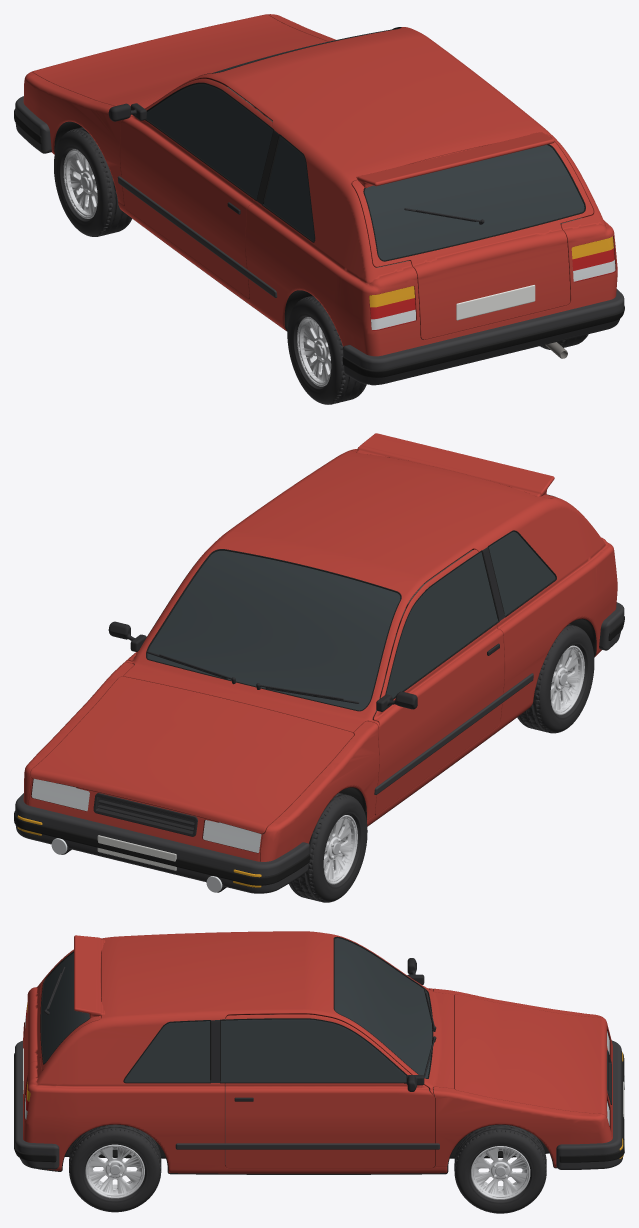
File: volant.glb
3 renders of one model, top to bottom at view 1: azimuth 30°, elevation 25°; view 2: azimuth 150°, elevation 25°; view 3: azimuth 270°, elevation 25°, orthographic. The views are drawn at different scales.
Visible parts, largest first — view 1: Body, Trunk, Glass_Rear, Door_FL, Hood, Glass_FL, Bumper_R, Fender_FL, Wheel_FL_Tyre, Glass_QL, Wheel_RL_Tyre, Bumper_R_Strip (+8 smaller); view 2: Body, Hood, Glass_Front, Door_FL, Glass_FL, Bumper_F, Fender_FL, Trunk, Wheel_FL_Tyre, Wheel_RL_Tyre, Glass_QL, Bumper_F_Strip (+9 smaller); view 3: Body, Door_FR, Hood, Glass_FR, Glass_Front, Fender_FR, Glass_QR, Wheel_FR_Tyre, Wheel_RR_Tyre, Trunk, Glass_Rear, Bumper_F (+7 smaller).
Part boxes in pixels (bbox=[...]): Body: bbox=[52, 27, 617, 385]; Trunk: bbox=[352, 132, 593, 339]; Glass_Rear: bbox=[363, 144, 585, 261]; Door_FL: bbox=[120, 78, 272, 298]; Hood: bbox=[31, 14, 327, 106]; Glass_FL: bbox=[145, 82, 273, 200]; Bumper_R: bbox=[342, 289, 624, 384]; Fender_FL: bbox=[23, 72, 131, 205]; Wheel_FL_Tyre: bbox=[54, 127, 131, 236]; Glass_QL: bbox=[262, 134, 315, 242]; Wheel_RL_Tyre: bbox=[287, 295, 366, 404]; Bumper_R_Strip: bbox=[342, 305, 624, 377]; Body: bbox=[28, 449, 617, 861]; Hood: bbox=[30, 676, 354, 833]; Glass_Front: bbox=[146, 549, 401, 711]; Door_FL: bbox=[373, 549, 504, 814]; Glass_FL: bbox=[385, 550, 499, 700]; Bumper_F: bbox=[15, 781, 309, 893]; Fender_FL: bbox=[260, 721, 379, 861]; Trunk: bbox=[352, 433, 560, 498]; Wheel_FL_Tyre: bbox=[289, 793, 367, 902]; Wheel_RL_Tyre: bbox=[517, 624, 594, 733]; Glass_QL: bbox=[488, 530, 556, 617]; Bumper_F_Strip: bbox=[14, 811, 309, 885]; Body: bbox=[23, 931, 612, 1174]; Door_FR: bbox=[225, 1014, 435, 1167]; Hood: bbox=[454, 994, 607, 1117]; Glass_FR: bbox=[220, 1018, 407, 1083]; Glass_Front: bbox=[333, 936, 433, 1078]; Fender_FR: bbox=[433, 1087, 611, 1166]; Glass_QR: bbox=[123, 1020, 211, 1083]; Wheel_FR_Tyre: bbox=[454, 1124, 546, 1213]; Wheel_RR_Tyre: bbox=[69, 1124, 161, 1212]; Trunk: bbox=[23, 935, 105, 1114]; Glass_Rear: bbox=[40, 951, 90, 1064]; Bumper_F: bbox=[556, 1040, 622, 1169].
Size of the model in its own units: 1.86 by 1.35 by 3.84.
